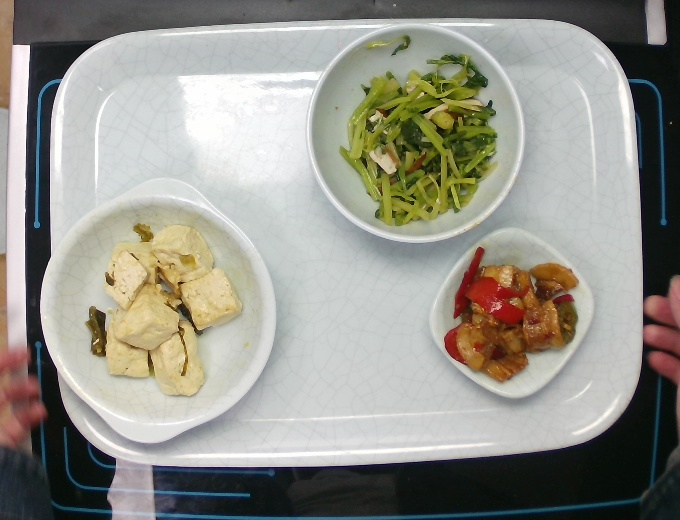JYsf-Fan_Wan: (298, 22, 531, 250)
JYsf-Shuang_Er_Wan: (31, 167, 289, 452)
JYsf-Si_Fang_Die: (423, 217, 604, 405)
